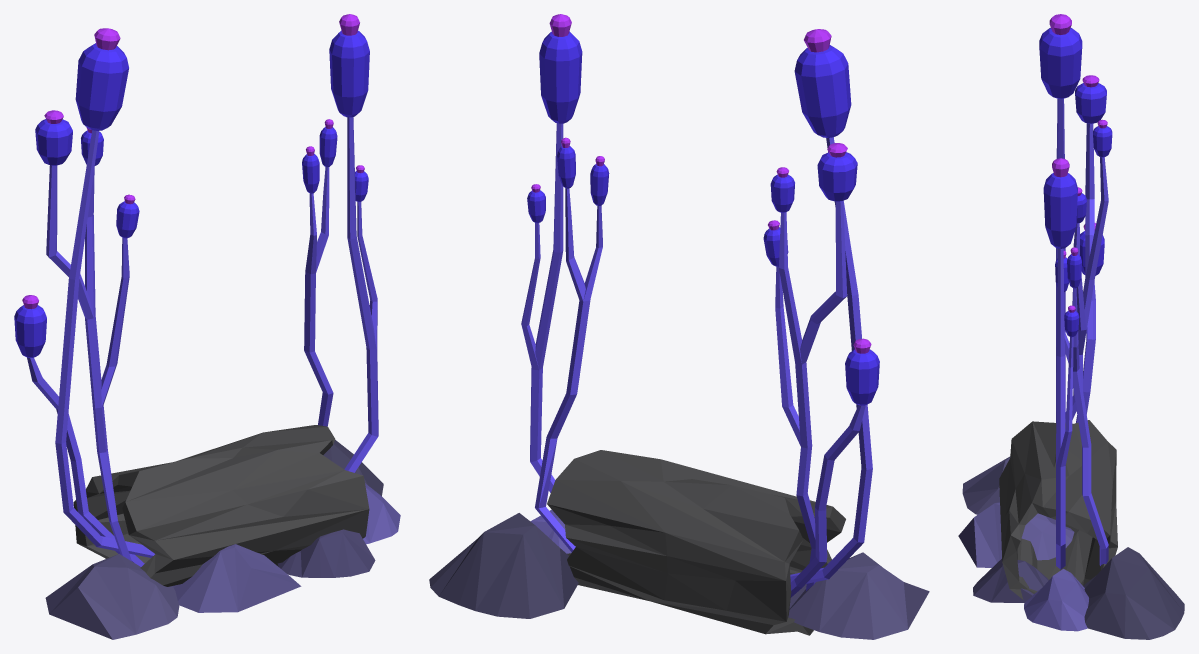
Rendered from VL_Plant04.fbx.
3 renders of one model, left to right at view 1: azimuth 30°, elevation 25°; view 2: azimuth 150°, elevation 25°; view 3: azimuth 270°, elevation 25°, orthographic. The views are drawn at different scales.
Parts seen in each view (by area): view 1: VL_Plant04; view 2: VL_Plant04; view 3: VL_Plant04.
Boxes of the visible parts, x1=… form: VL_Plant04: x1=14, y1=14, x2=400, y2=639; VL_Plant04: x1=429, y1=14, x2=929, y2=639; VL_Plant04: x1=958, y1=14, x2=1184, y2=639.
Size of the model in its own units: 61.36 by 86.37 by 35.26.
Materials: 1 (1 with a texture image).
